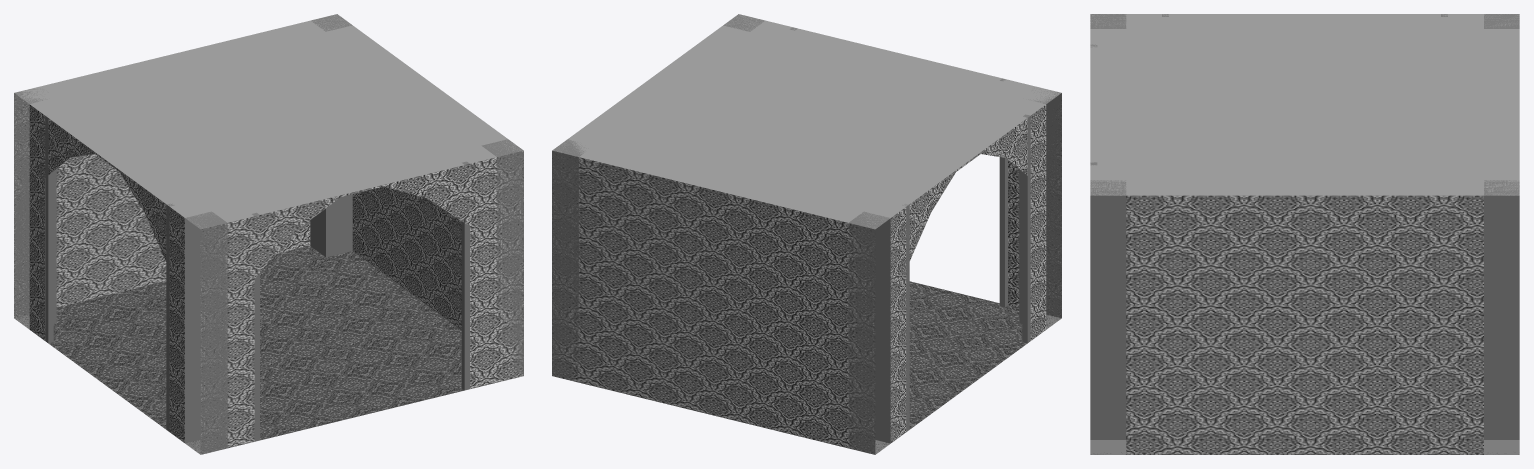
The model's file is Hallway_Connector_A.fbx.
The picture shows the model from 3 angles, left to right: view 1: azimuth 30°, elevation 25°; view 2: azimuth 150°, elevation 25°; view 3: azimuth 270°, elevation 25°; orthographic projection. The views are drawn at different scales.
Visible parts, largest first — view 1: Hallway_Connector_A; view 2: Hallway_Connector_A; view 3: Hallway_Connector_A.
Part boxes in pixels (box(x1,y1,x2,y2)): Hallway_Connector_A: box(14, 14, 523, 454); Hallway_Connector_A: box(552, 14, 1061, 454); Hallway_Connector_A: box(1090, 14, 1519, 454).
Size of the model in its own units: 9 by 6 by 9.
Materials: 4 (2 with a texture image).
